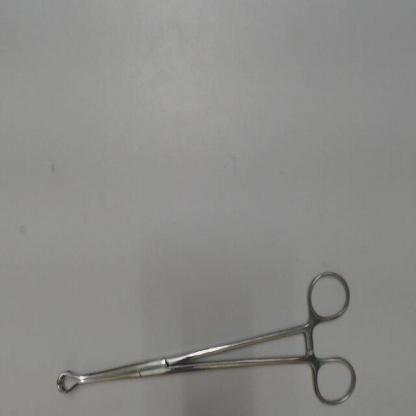8 Babcock Tissue Forceps: (54, 263, 362, 410)
